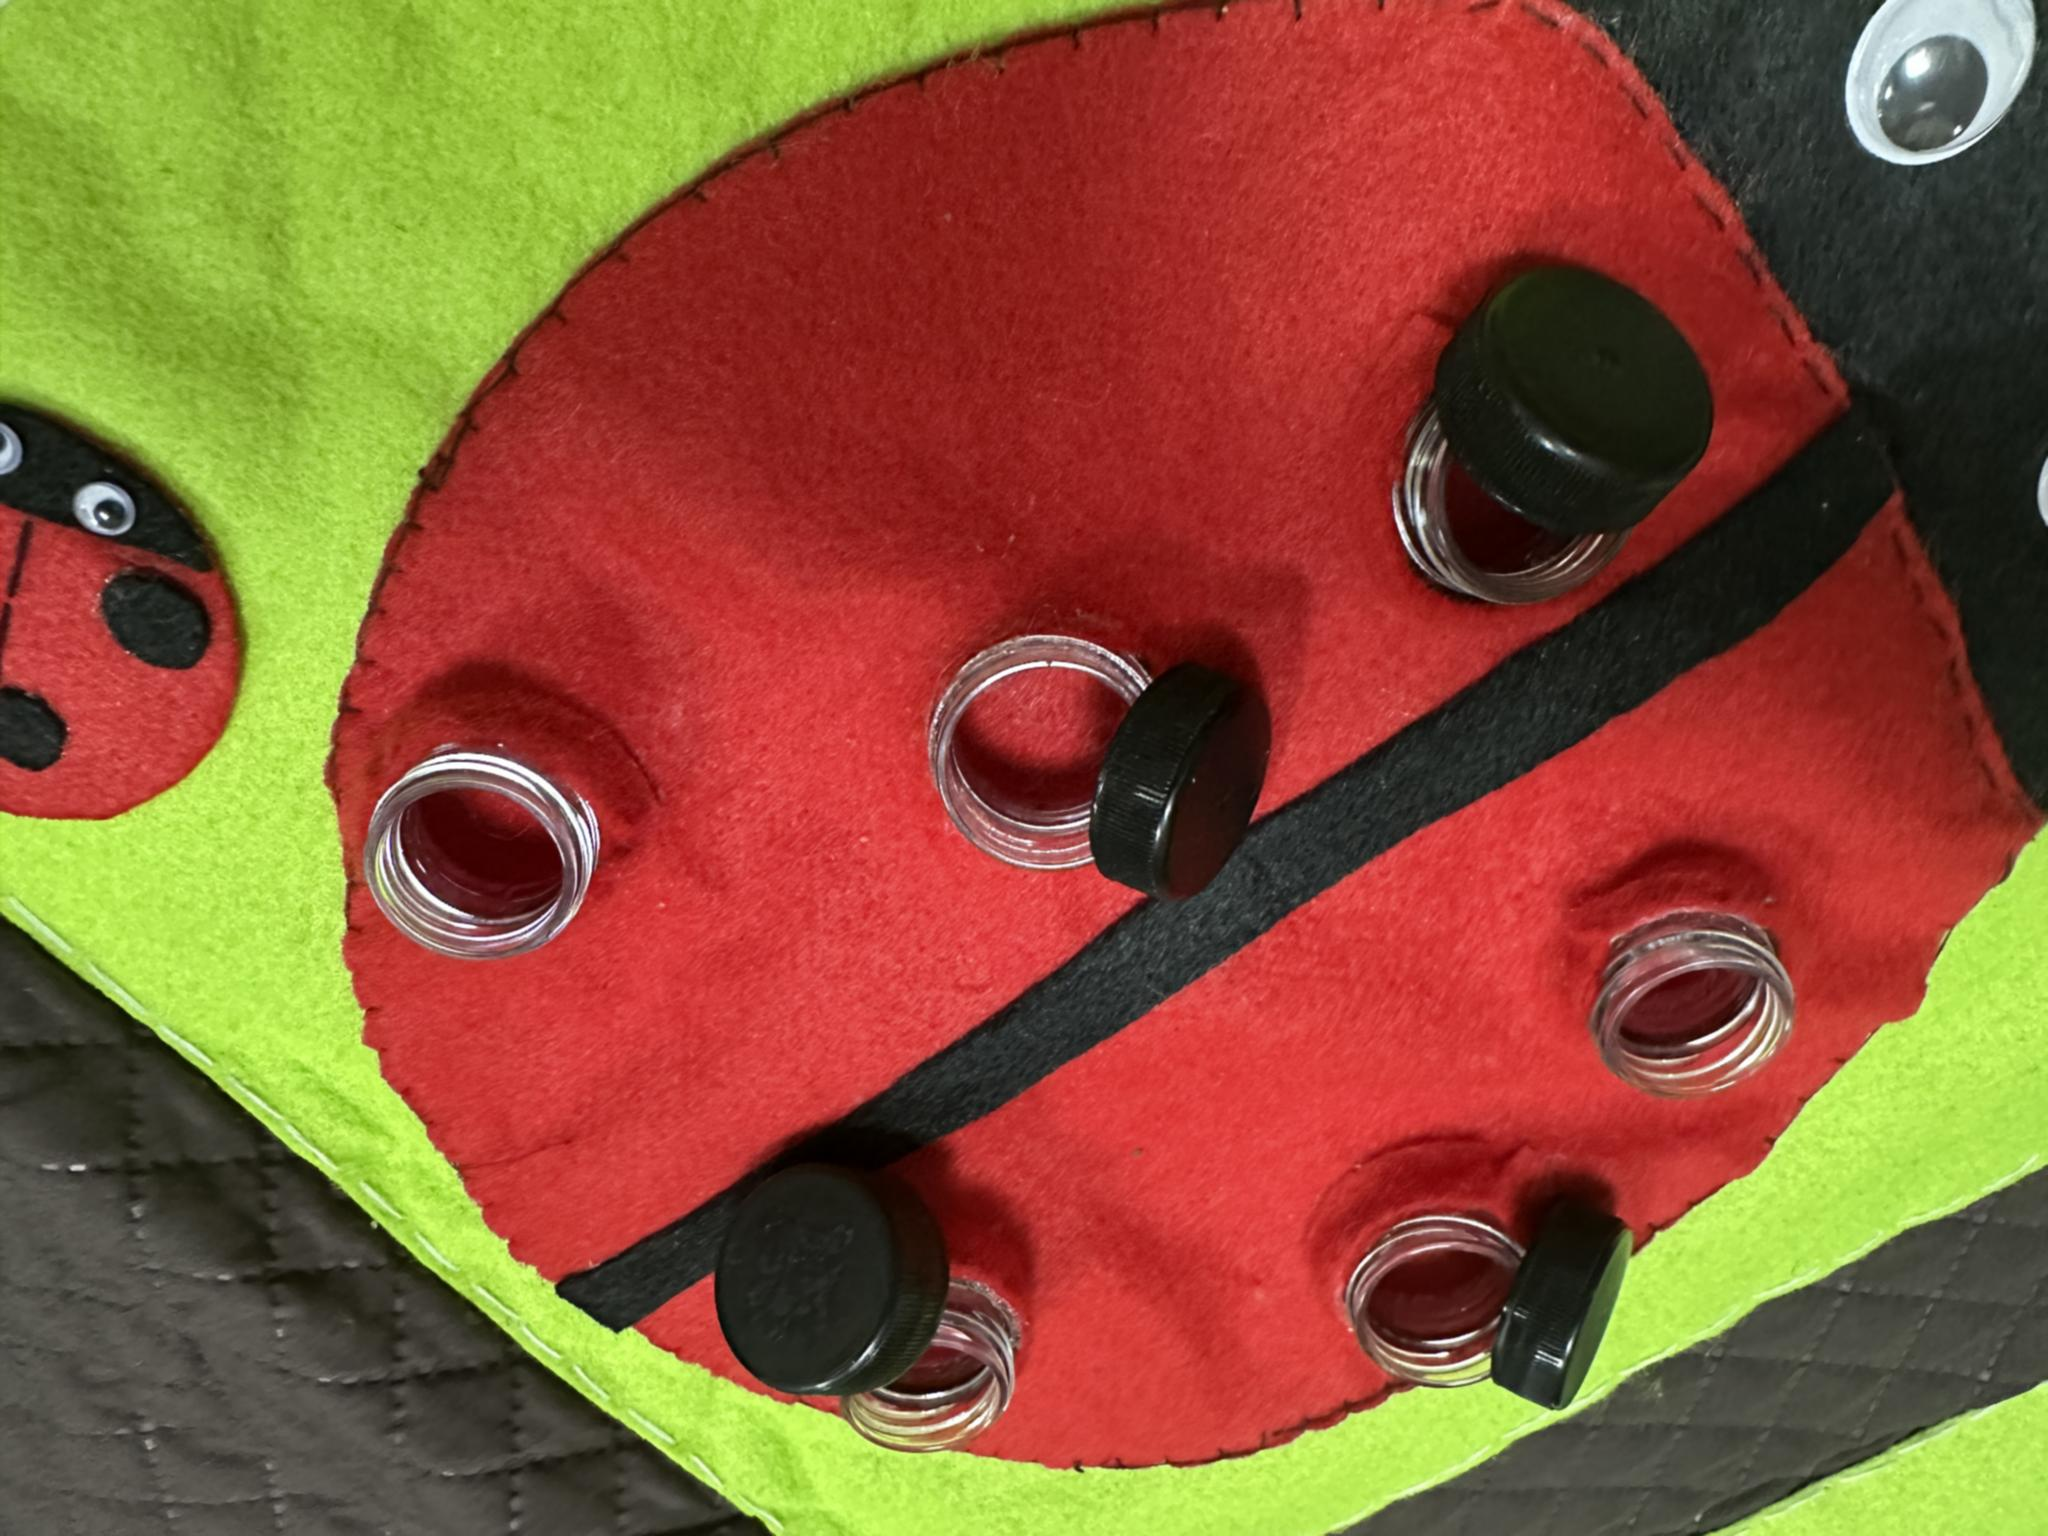cap_ng: (1364, 244, 1725, 644), (892, 582, 1292, 918), (695, 1141, 1037, 1463), (1300, 1155, 1655, 1426)
